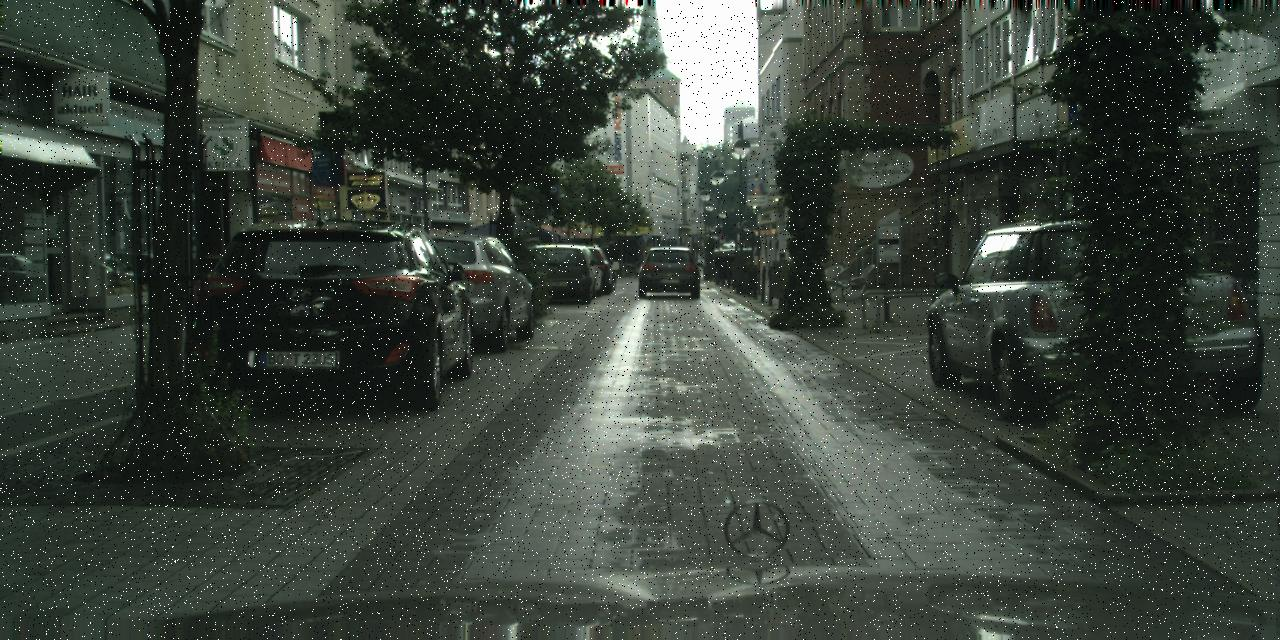ped: (602, 240, 618, 282)
